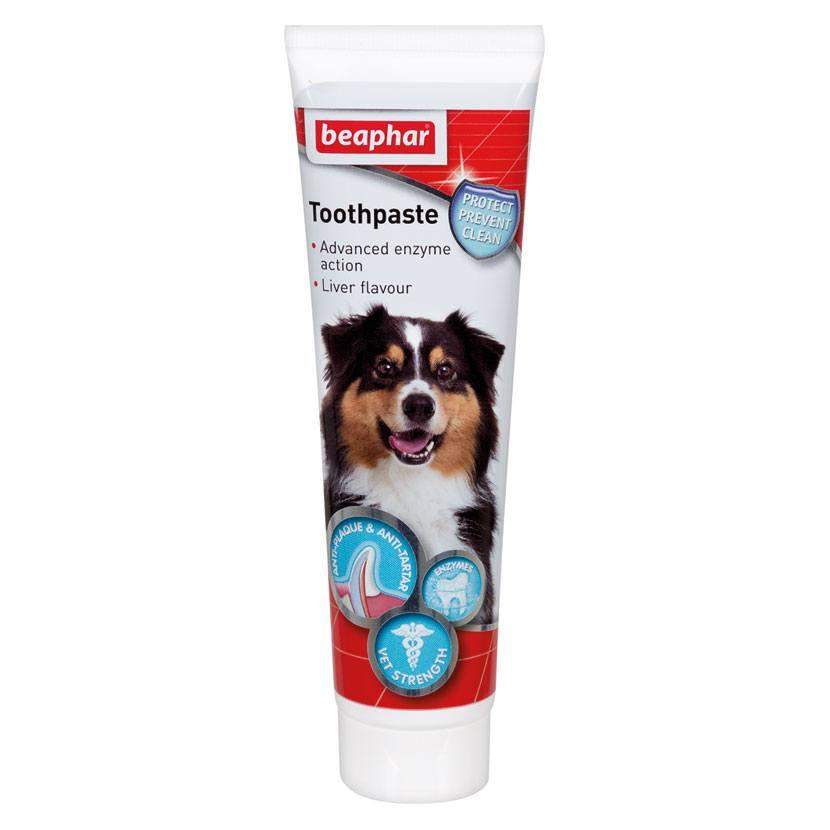toothpaste: (304, 13, 550, 823)
